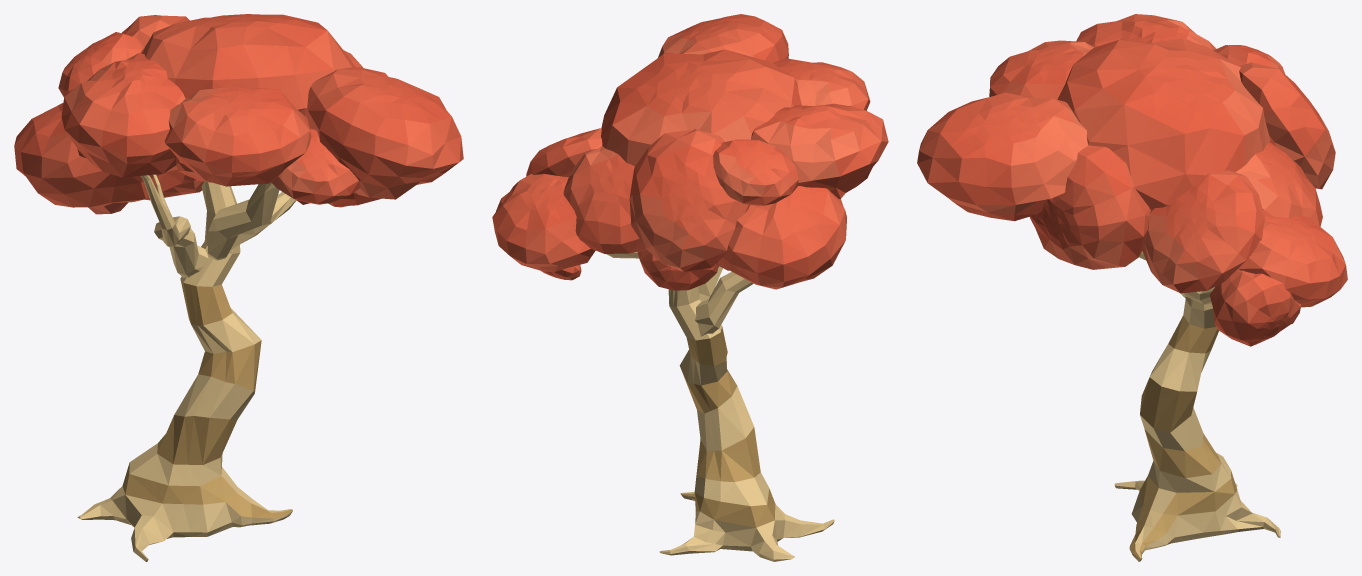
File: tree_3_a.obj
3 views of the same model, side by side, from view 1: azimuth 30°, elevation 25°; view 2: azimuth 150°, elevation 25°; view 3: azimuth 270°, elevation 25° (orthographic). The views are drawn at different scales.
Visible parts, largest first — view 1: crown_3_a_Material, trunk_3_a_Material; view 2: crown_3_a_Material, trunk_3_a_Material; view 3: crown_3_a_Material, trunk_3_a_Material.
Part boxes in pixels (box(x1,y1,x2,y2)): crown_3_a_Material: box(14, 14, 463, 214); trunk_3_a_Material: box(77, 174, 296, 561); crown_3_a_Material: box(492, 14, 888, 290); trunk_3_a_Material: box(606, 252, 834, 561); crown_3_a_Material: box(917, 14, 1347, 346); trunk_3_a_Material: box(1114, 251, 1280, 561).
Size of the model in its own units: 4.06 by 5.28 by 4.24.
